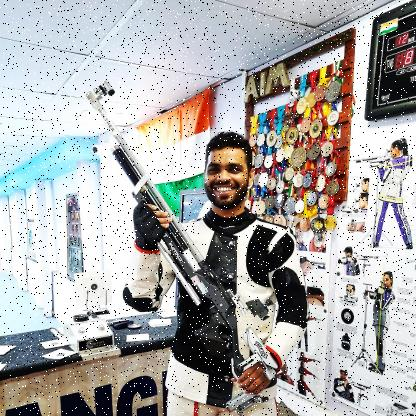rifle: (84, 78, 280, 416)
